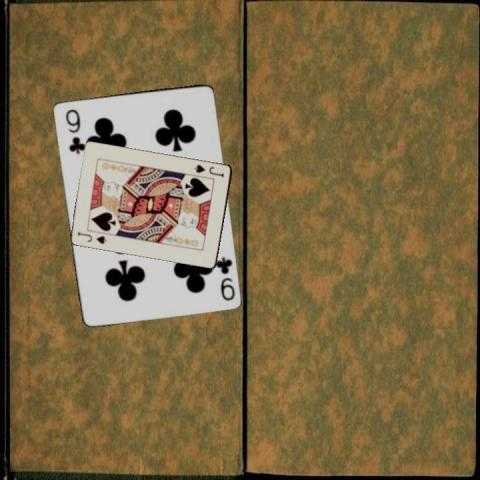9c: (212, 253, 236, 302), (62, 106, 83, 155)
Js: (192, 161, 226, 179), (74, 228, 108, 244)
